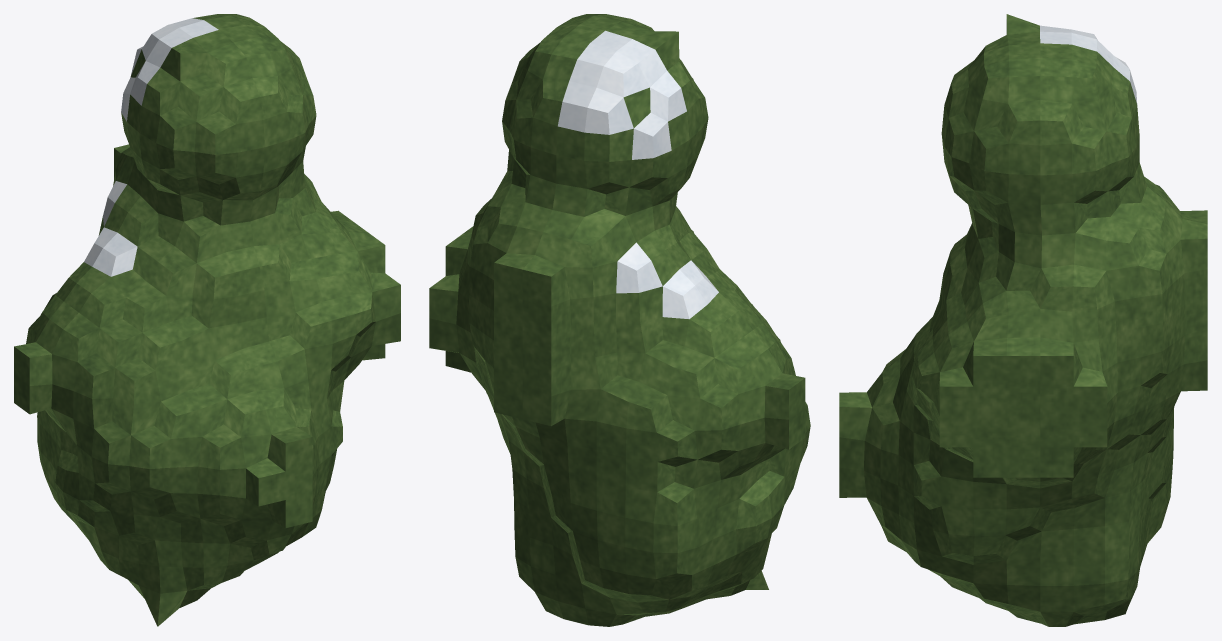
File: shrub_d_snow.glb
3 renders of one model, left to right at view 1: azimuth 30°, elevation 25°; view 2: azimuth 150°, elevation 25°; view 3: azimuth 270°, elevation 25°, orthographic. The views are drawn at different scales.
Visible parts, largest first — view 1: wilds_shrub_d_snow; view 2: wilds_shrub_d_snow; view 3: wilds_shrub_d_snow.
Boxes of the visible parts, x1=… form: wilds_shrub_d_snow: x1=14, y1=14, x2=400, y2=626; wilds_shrub_d_snow: x1=429, y1=14, x2=810, y2=626; wilds_shrub_d_snow: x1=839, y1=14, x2=1207, y2=626.
Size of the model in its own units: 0.75 by 1.19 by 0.6875.
1 material, 1 textured.
